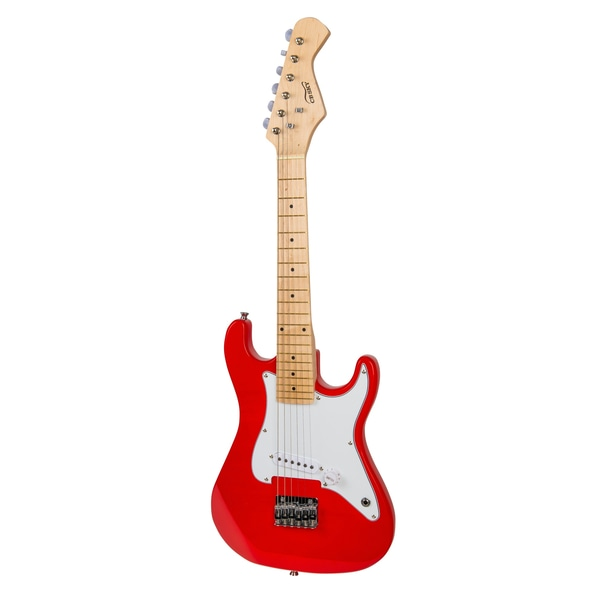ElectricGuitar: (210, 20, 399, 580)
